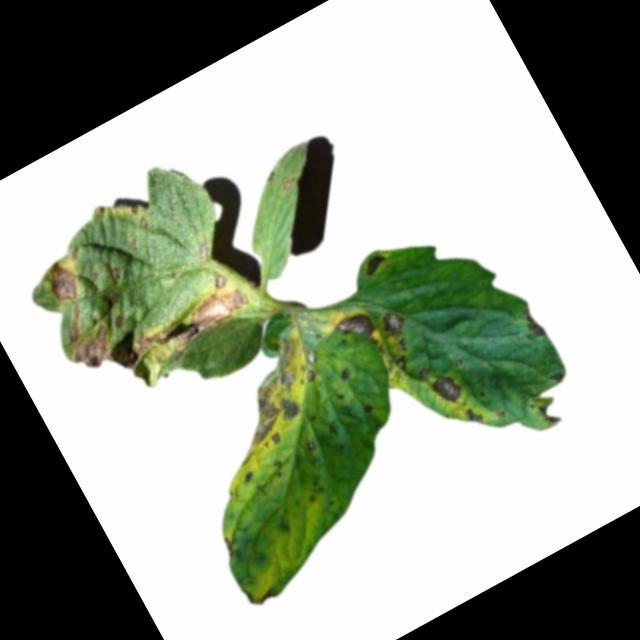Early_blight: (208, 330, 337, 458), (129, 280, 258, 374), (66, 325, 121, 377), (38, 257, 85, 309), (333, 307, 380, 351), (54, 301, 92, 343), (427, 369, 466, 409), (242, 578, 279, 611), (537, 398, 568, 433), (520, 306, 549, 343), (359, 248, 392, 280), (377, 306, 409, 338), (192, 237, 217, 266), (464, 405, 485, 428), (547, 366, 569, 387), (210, 271, 231, 291), (107, 265, 124, 286), (111, 314, 128, 331), (137, 215, 151, 231), (362, 403, 375, 416)
